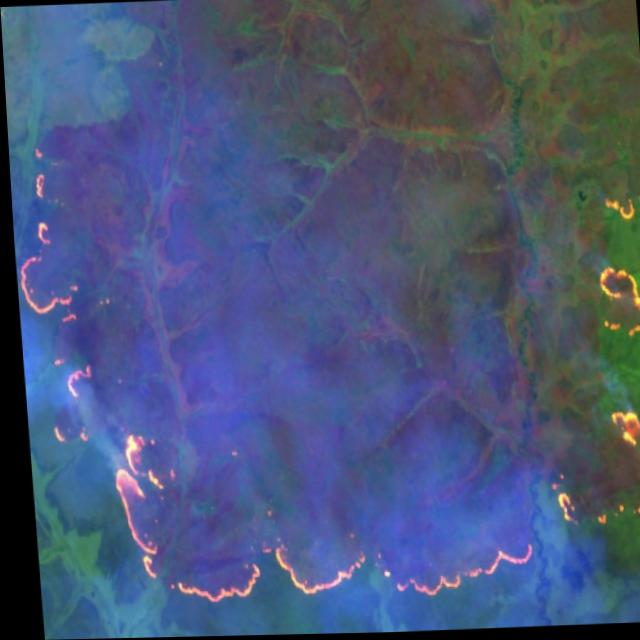fire: (6, 109, 640, 640)
